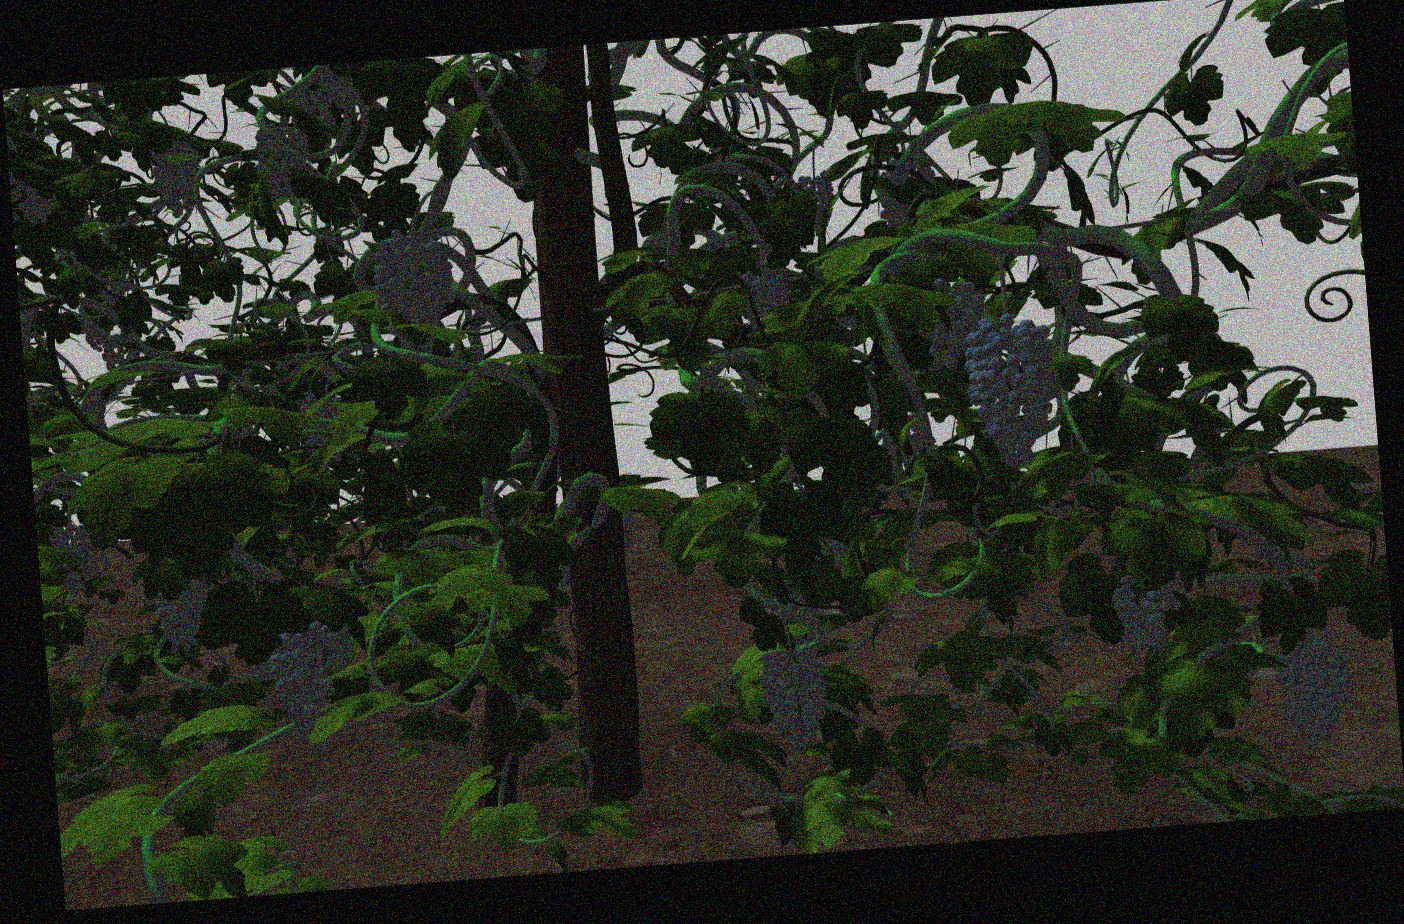grape: (967, 313, 1056, 471), (265, 617, 340, 740), (1275, 623, 1351, 745), (370, 227, 454, 329), (759, 648, 829, 753), (916, 278, 983, 368), (1111, 574, 1182, 655), (149, 570, 212, 653), (148, 133, 200, 219), (254, 120, 310, 197), (45, 521, 96, 596), (743, 263, 793, 316)
